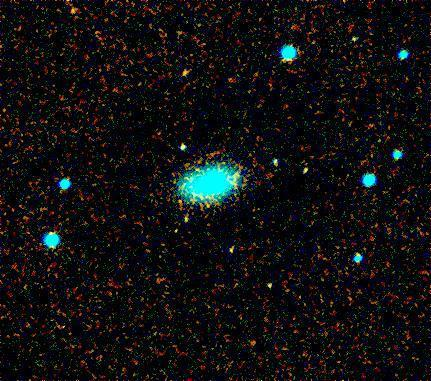star: (59, 0, 89, 26)
